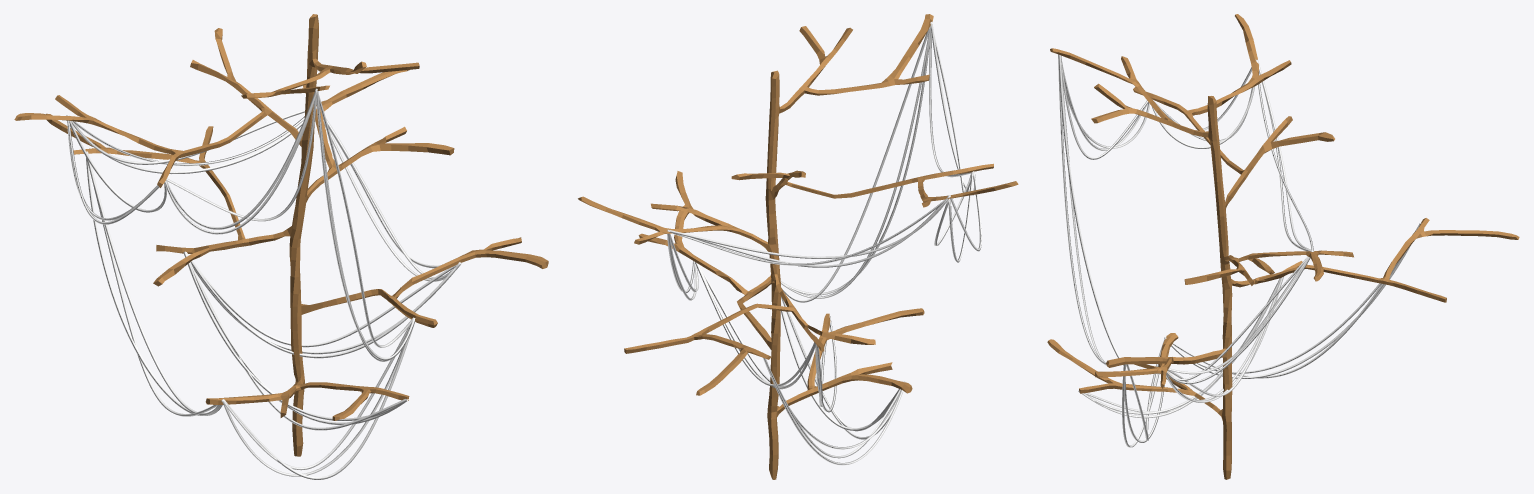
The model's file is DigitalTreeNaked.glb.
3 renders of one model, left to right at view 1: azimuth 30°, elevation 25°; view 2: azimuth 150°, elevation 25°; view 3: azimuth 270°, elevation 25°, orthographic. The views are drawn at different scales.
Visible parts, largest first — view 1: Retopo_TRONC.001, GeoCablesNaked; view 2: Retopo_TRONC.001, GeoCablesNaked; view 3: Retopo_TRONC.001, GeoCablesNaked.
Boxes of the visible parts, box(x1,y1,x2,y2) form: Retopo_TRONC.001: box(14, 14, 548, 456); GeoCablesNaked: box(66, 88, 461, 479); Retopo_TRONC.001: box(578, 14, 1018, 479); GeoCablesNaked: box(667, 22, 981, 465); Retopo_TRONC.001: box(1047, 14, 1519, 479); GeoCablesNaked: box(1058, 54, 1421, 447).
Size of the model in its own units: 25.64 by 24.33 by 26.04.
